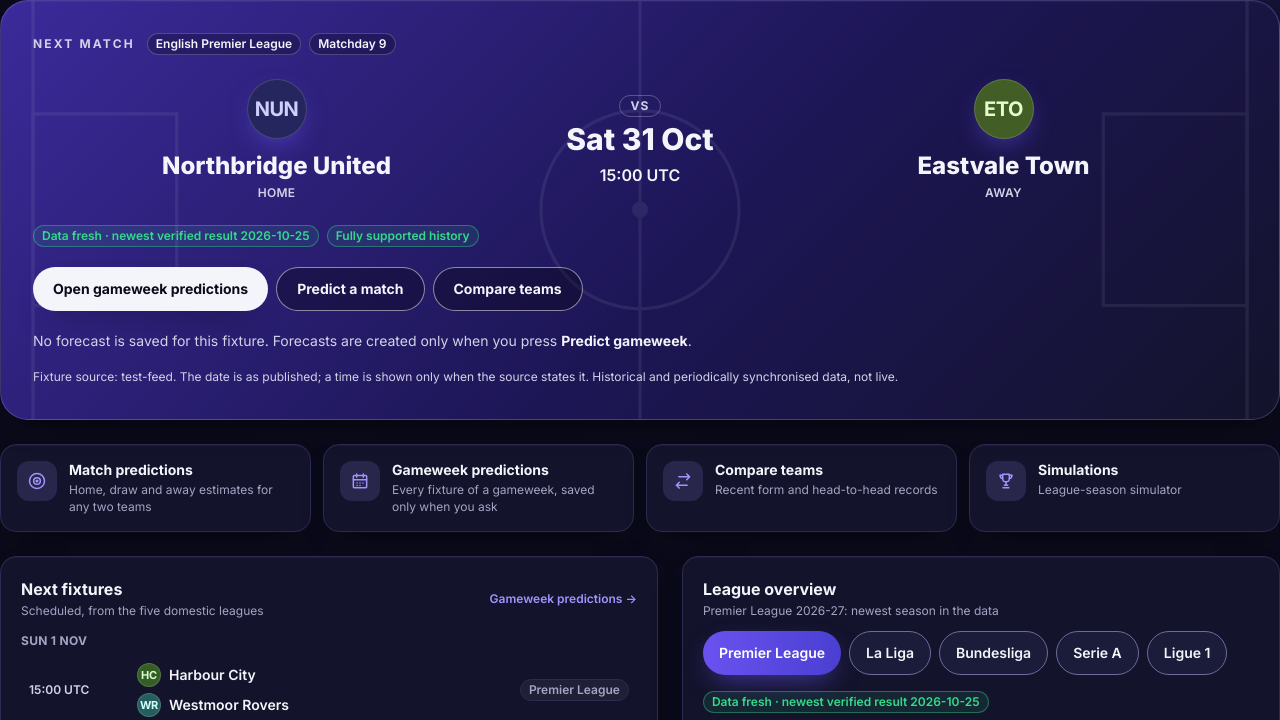
Scenario: Home: league overview › switches league and then shows that league's newest season
Click the radio button labelled "Serie A".
click(1097, 653)  # box [1056,631,1139,675]
(page scrolled)
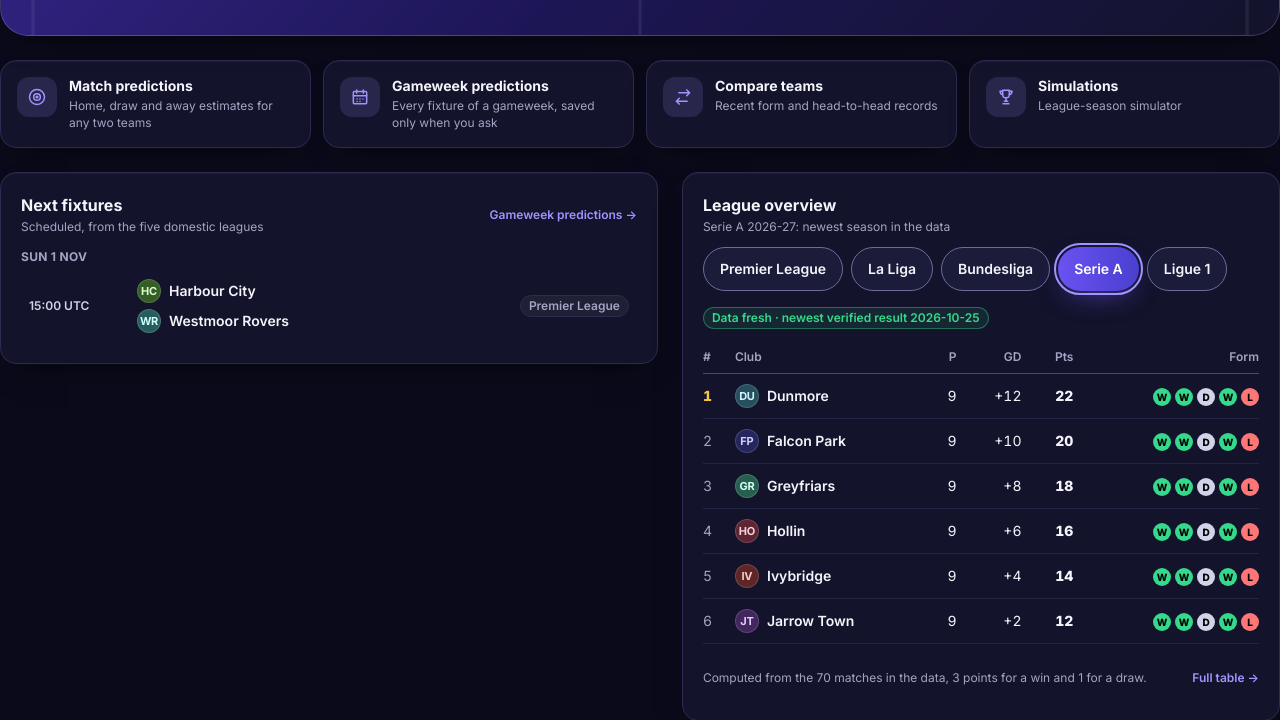
Check: the table named "Serie A 2026-27" is shown, box [703,341,1259,644]
Check: the text "Dunmore" is shown, box [767,386,829,406]
